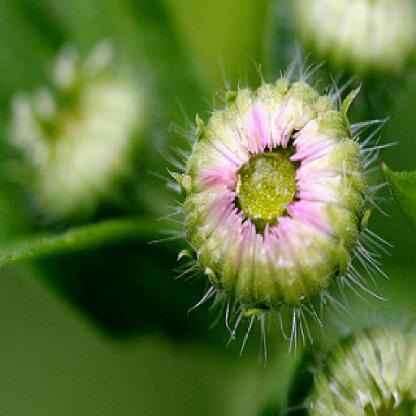ASTER: (155, 63, 410, 362)
